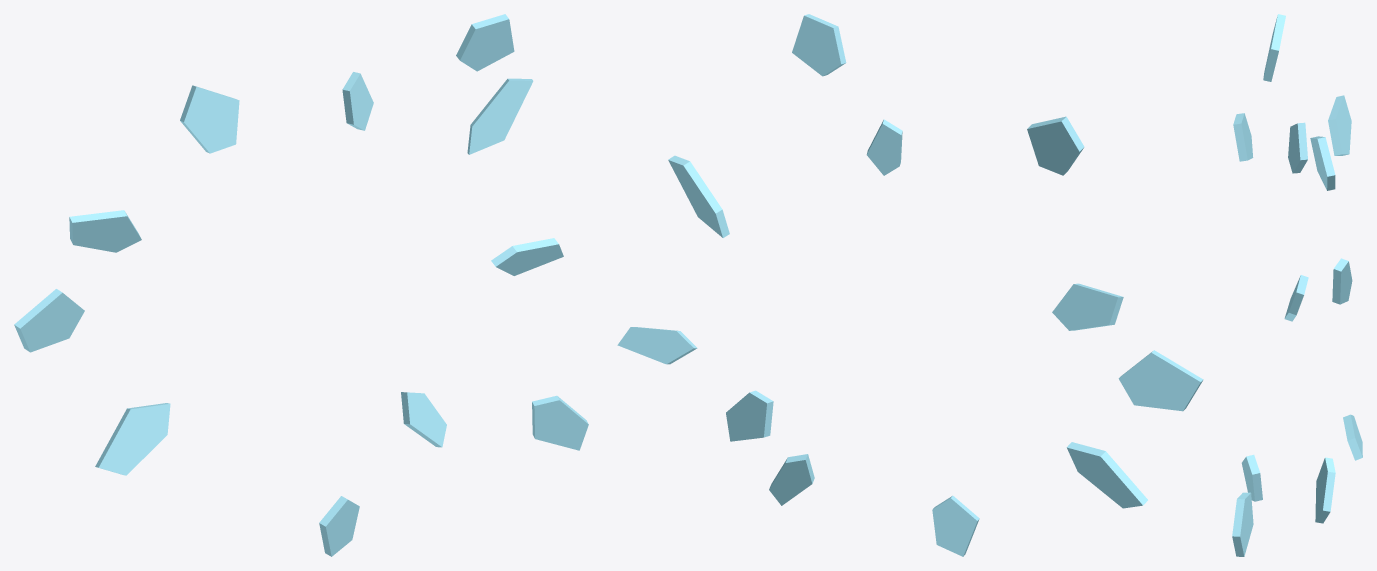
The model's file is mirror_spirit_shards.glb.
3 views of the same model, side by side, from view 1: azimuth 30°, elevation 25°; view 2: azimuth 150°, elevation 25°; view 3: azimuth 270°, elevation 25° (orthographic). The views are drawn at different scales.
Visible parts, largest first — view 1: mirror_spirit_shards; view 2: mirror_spirit_shards; view 3: mirror_spirit_shards.
Part boxes in pixels (box(x1,y1,x2,y2)): mirror_spirit_shards: box(14, 14, 588, 556); mirror_spirit_shards: box(617, 14, 1203, 556); mirror_spirit_shards: box(1232, 14, 1362, 556).
Bounding box in the file's own units: 1.75 × 1.48 × 0.3909.
